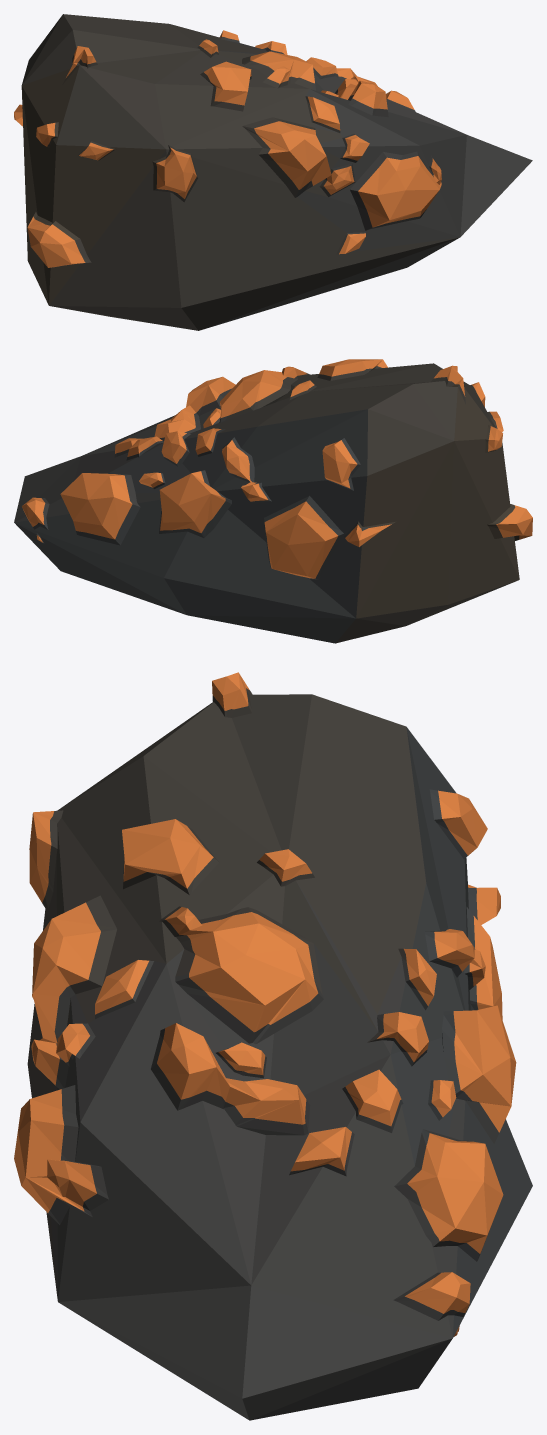
File: Copper Ore Rock.glb
3 renders of one model, top to bottom at view 1: azimuth 30°, elevation 25°; view 2: azimuth 150°, elevation 25°; view 3: azimuth 270°, elevation 25°, orthographic. The views are drawn at different scales.
Visible parts, largest first — view 1: Copper Ore Rock.Static; view 2: Copper Ore Rock.Static; view 3: Copper Ore Rock.Static.
Part boxes in pixels (left/top/right/bottom): Copper Ore Rock.Static: left=14, top=14, right=532, bottom=330; Copper Ore Rock.Static: left=14, top=359, right=532, bottom=643; Copper Ore Rock.Static: left=14, top=672, right=532, bottom=1420.
Size of the model in its own units: 1.67 by 0.8196 by 0.8971.
